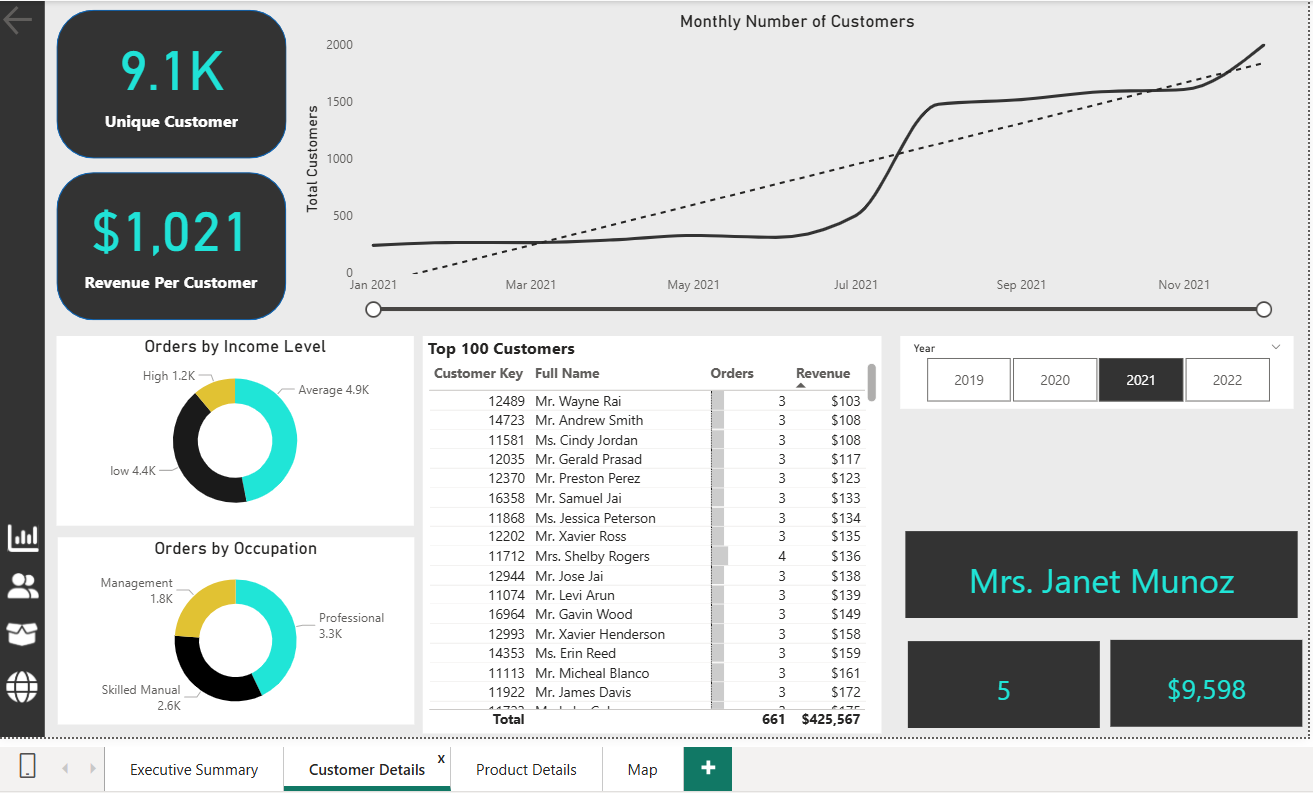

The page's visual inventory and layout, read from the dashboard file:
{"tool":"powerbi","page":{"name":"Customer Details","canvas":[1280,720],"ordinal":1},"visuals":[{"type":"shape","title":"Navigation Bar","box":[0,0,45,720],"z":0},{"type":"shape","box":[56.2,8.8,225.2,145.5],"z":0,"group":"g1"},{"type":"shape","box":[56.2,167.5,224.8,144.8],"z":0,"group":"g2"},{"type":"actionButton","box":[1.2,506.3,44.8,38.6],"z":0,"group":"g3"},{"type":"group","id":"g1","title":"Group 1","box":[56.2,8.8,225,145],"z":1000},{"type":"cardVisual","title":"card","fields":{"Data":["_Measures.Active Customers"]},"box":[56.2,10,225.2,144.3],"z":1000,"group":"g1"},{"type":"cardVisual","title":"card","fields":{"Data":["_Measures.Revenue Per Customer"]},"box":[56.2,167.5,224.8,144.8],"z":1000,"group":"g2"},{"type":"actionButton","box":[1.2,552.3,44.8,38.6],"z":1000,"group":"g3"},{"type":"group","id":"g2","title":"Group 2","box":[56.2,167.5,225,145],"z":2000},{"type":"actionButton","box":[0,600.8,44.8,38.6],"z":2000,"group":"g3"},{"type":"lineChart","title":"Monthly Number of Customers","fields":{"Category":["DimCalender.StartOfMonth"],"Y":["_Measures.Active Customers"]},"box":[293.8,10,975,302.5],"z":3000},{"type":"actionButton","box":[0,651.8,44.8,38.6],"z":3000,"group":"g3"},{"type":"donutChart","title":"Orders by Income Level","fields":{"Y":["_Measures.Total Orders"],"Category":["DimCustomer.Income Level"]},"box":[56.3,327.7,349.7,185.9],"z":4000},{"type":"slicer","title":"Orders by Occupation","fields":{"Values":["DimCalender.Year"]},"box":[881.7,327.7,385.2,70.9],"z":5000},{"type":"tableEx","title":"Top 100 Customers","fields":{"Values":["DimCustomer.CustomerKey","DimCustomer.FullName","_Measures.Total Orders","_Measures.Total Revenue"]},"box":[414.5,327.7,448.8,388.9],"z":6000},{"type":"cardVisual","fields":{"Data":["_Measures.Customer Full Name (Cust Analysis)"]},"box":[881.7,513.6,395,95.4],"z":7000},{"type":"cardVisual","fields":{"Data":["_Measures.Total Orders (Cust Details)"]},"box":[884.1,621.2,198.1,95.4],"z":8000},{"type":"cardVisual","fields":{"Data":["_Measures.Total Revenue (Cust Details)"]},"box":[1082.2,620,198.1,95.4],"z":9000},{"type":"donutChart","title":"Orders by Occupation","fields":{"Y":["_Measures.Total Orders"],"Category":["DimCustomer.Occupation"]},"box":[57.5,524.6,348.5,183],"z":10000},{"type":"actionButton","box":[0,0,45,38],"z":12000},{"type":"group","id":"g3","title":"Group 1","box":[0,506.3,46,184.1],"z":13000}]}

Visuals, with their boxes on the page's 1280x720 design canvas (x1, y1, x2, y2). These are canvas units, not pixel positions in the 1313x793 screenshot, which may show the page scaled, cropped or inside an application window:
"Navigation Bar" shape: [0, 0, 45, 720]
shape: [56, 9, 281, 154]
shape: [56, 168, 281, 312]
actionButton: [1, 506, 46, 545]
"Group 1" group: [56, 9, 281, 154]
"card" cardVisual: [56, 10, 281, 154]
"card" cardVisual: [56, 168, 281, 312]
actionButton: [1, 552, 46, 591]
"Group 2" group: [56, 168, 281, 312]
actionButton: [0, 601, 45, 639]
"Monthly Number of Customers" lineChart: [294, 10, 1269, 312]
actionButton: [0, 652, 45, 690]
"Orders by Income Level" donutChart: [56, 328, 406, 514]
"Orders by Occupation" slicer: [882, 328, 1267, 399]
"Top 100 Customers" tableEx: [414, 328, 863, 717]
cardVisual - _Measures.Customer Full Name (Cust Analysis): [882, 514, 1277, 609]
cardVisual - _Measures.Total Orders (Cust Details): [884, 621, 1082, 717]
cardVisual - _Measures.Total Revenue (Cust Details): [1082, 620, 1280, 715]
"Orders by Occupation" donutChart: [58, 525, 406, 708]
actionButton: [0, 0, 45, 38]
"Group 1" group: [0, 506, 46, 690]
